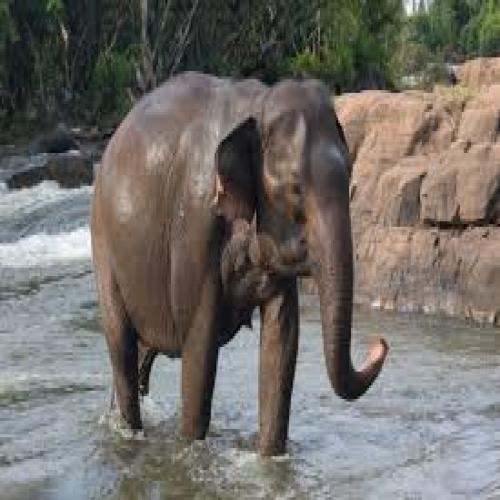asian_elephant-endangered: (93, 71, 387, 459)
